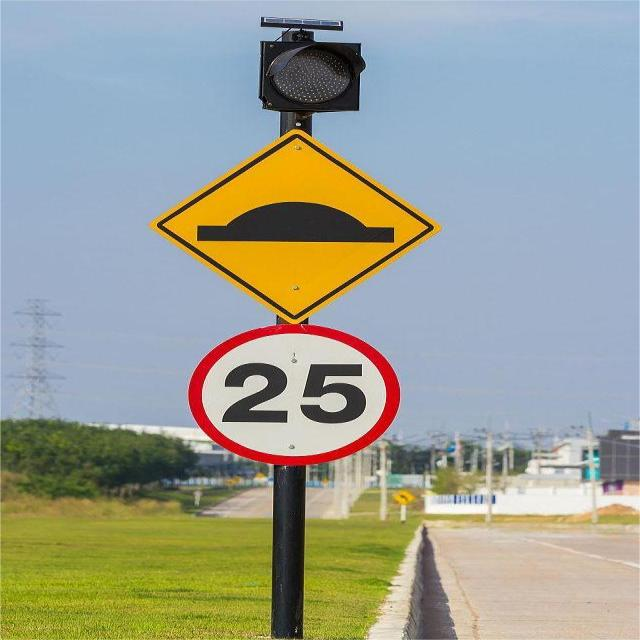speed limit 30: (184, 323, 400, 465)
